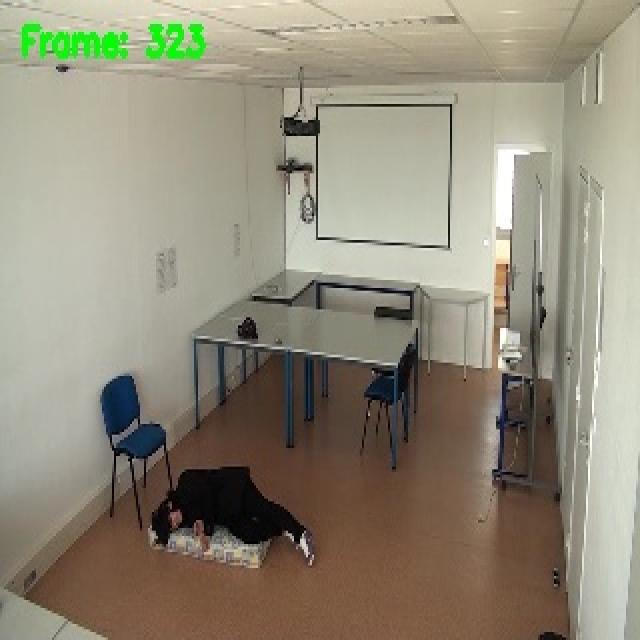Fall-Detected: (148, 460, 319, 576)
